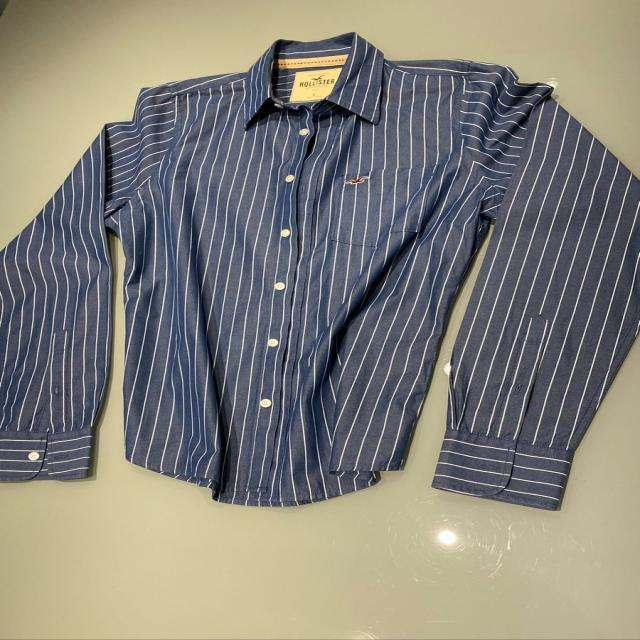long sleeve shirt: (0, 33, 640, 514)
